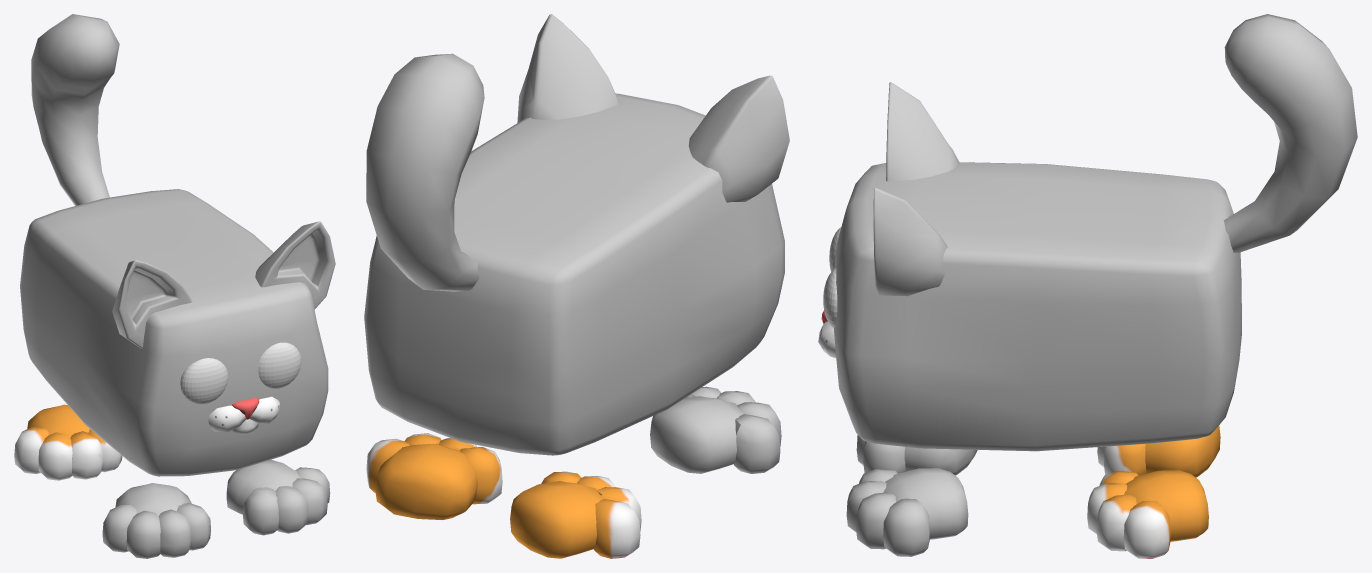
File: EnemyCatGrunt.fbx
3 renders of one model, left to right at view 1: azimuth 30°, elevation 25°; view 2: azimuth 150°, elevation 25°; view 3: azimuth 270°, elevation 25°, orthographic. The views are drawn at different scales.
Visible parts, largest first — view 1: Cube.004, Cube.001, Ears, Sphere, Mouth, Sphere.001; view 2: Cube.004, Cube.001; view 3: Cube.004, Cube.001, Sphere.001.
Boxes of the visible parts, <box> form: Cube.004: <box>20,14,335,487</box>; Cube.001: <box>14,404,330,558</box>; Ears: <box>125,234,319,319</box>; Sphere: <box>180,358,228,404</box>; Mouth: <box>208,396,279,434</box>; Sphere.001: <box>258,342,301,388</box>; Cube.004: <box>364,14,789,495</box>; Cube.001: <box>366,386,781,558</box>; Cube.004: <box>834,14,1357,551</box>; Cube.001: <box>846,425,1220,558</box>; Sphere.001: <box>823,268,837,328</box>.
Bounding box in the file's own units: 300 × 513 × 512.
